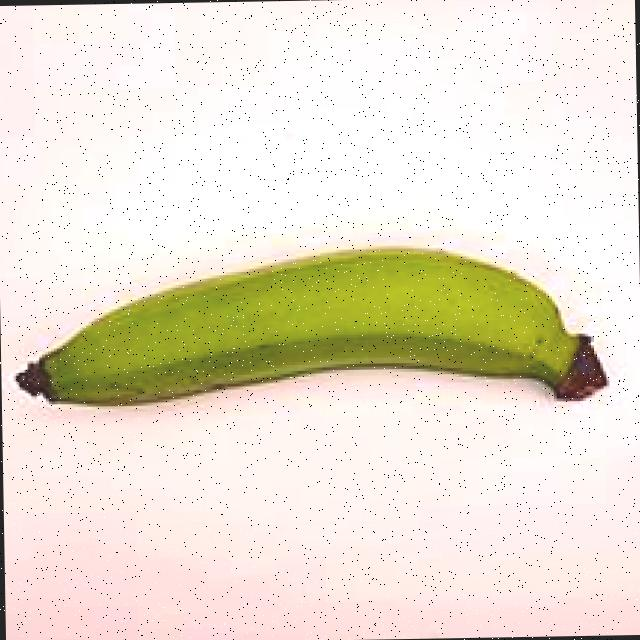Raw: (0, 196, 625, 474)
